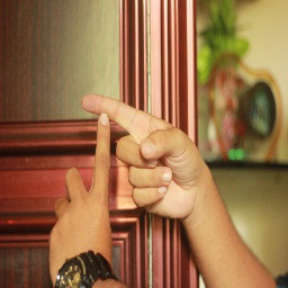T: (50, 90, 177, 219)
